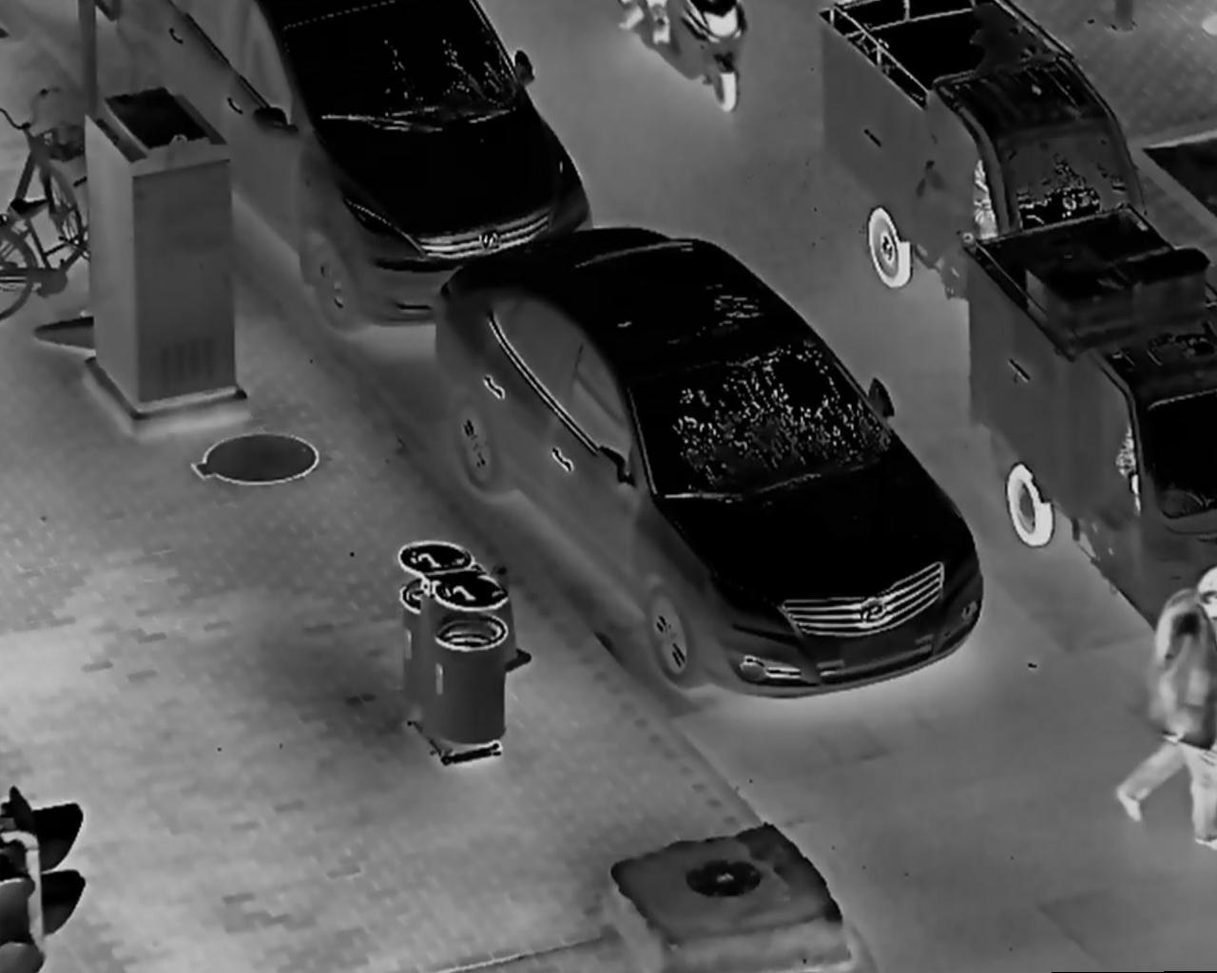person: (1110, 562, 1217, 853)
